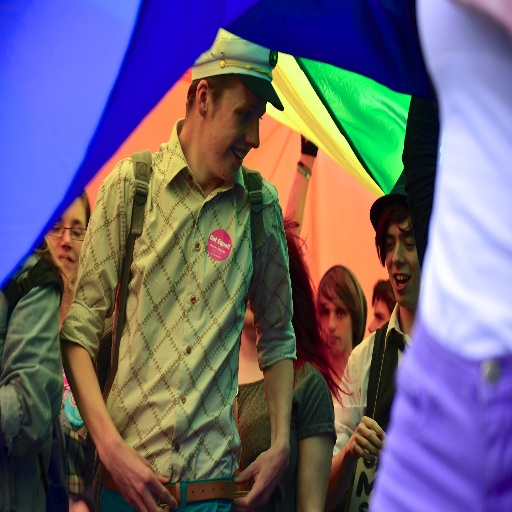hand: (108, 439, 180, 511), (235, 431, 285, 501), (347, 414, 390, 466)
